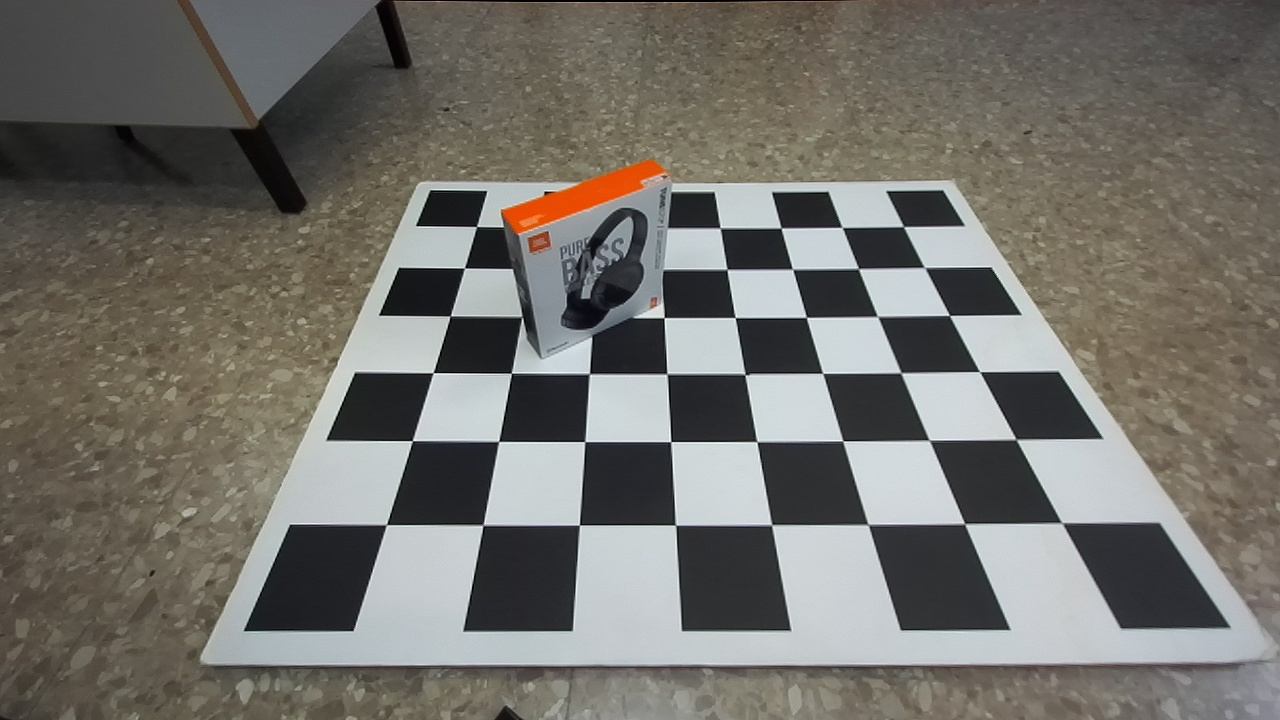caja_chasis: (501, 161, 671, 358)
